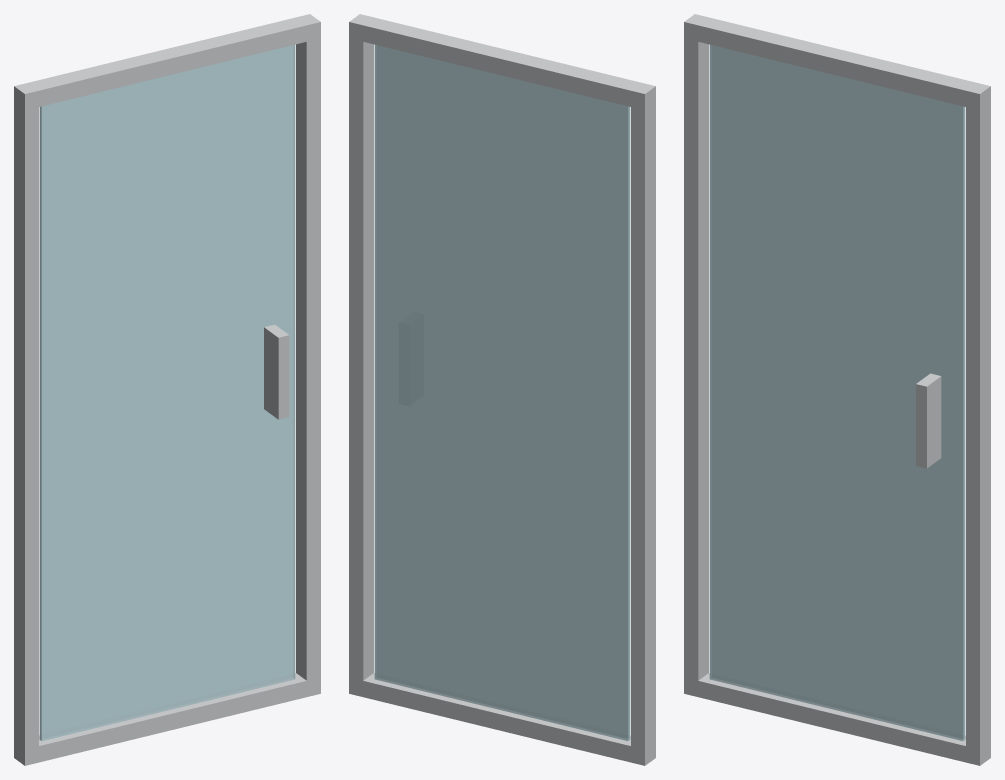
File: puerta-aluminio-esmerilado.glb
The picture shows the model from 3 angles, left to right: view 1: azimuth 30°, elevation 25°; view 2: azimuth 150°, elevation 25°; view 3: azimuth 330°, elevation 25°; orthographic projection.
Parts seen in each view (by area): view 1: glass, post-0.45, post0.45, rail2.025, rail0.025, handle; view 2: glass, post-0.45, post0.45, rail2.025, rail0.025; view 3: glass, post0.45, post-0.45, rail2.025, rail0.025, handle.
Boxes of the visible parts, x1,y1,x2,y2 form: glass: (39, 44, 295, 740); post-0.45: (14, 83, 38, 765); post0.45: (296, 14, 320, 696); rail2.025: (22, 17, 313, 107); rail0.025: (32, 673, 313, 763); handle: (264, 324, 289, 419); glass: (374, 44, 630, 740); post-0.45: (631, 83, 655, 765); post0.45: (349, 14, 373, 696); rail2.025: (356, 16, 648, 108); rail0.025: (356, 673, 637, 763); glass: (709, 44, 965, 740); post0.45: (966, 83, 990, 765); post-0.45: (684, 14, 708, 696); rail2.025: (691, 17, 982, 107); rail0.025: (691, 673, 972, 763); handle: (916, 373, 941, 468).
Bounding box in the file's own units: 0.945 × 2.05 × 0.12.
